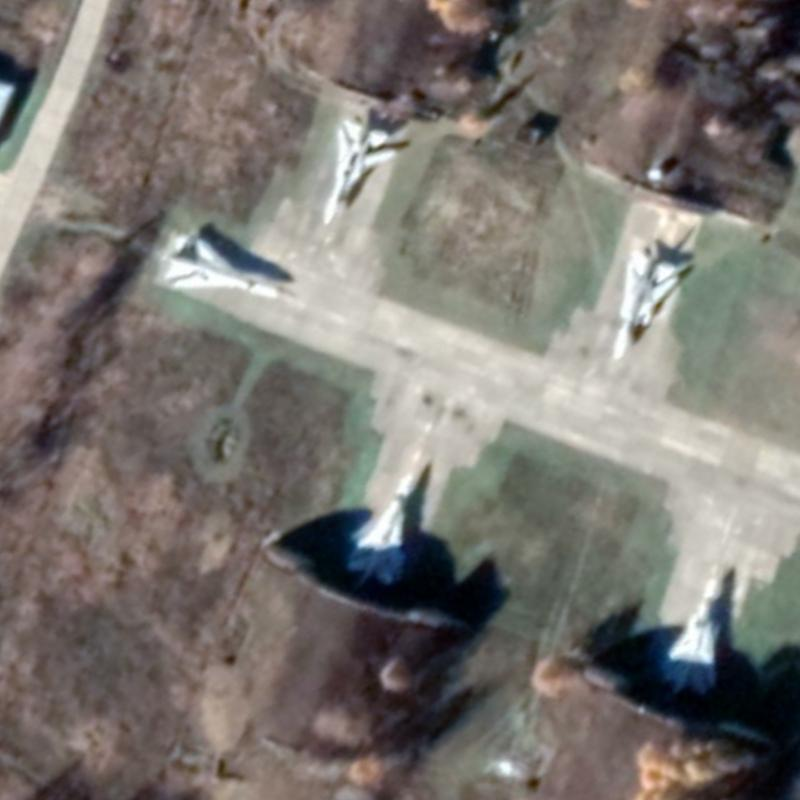A20: (320, 116, 398, 226), (159, 231, 282, 300), (342, 470, 412, 587), (610, 247, 681, 361), (657, 574, 720, 697)
